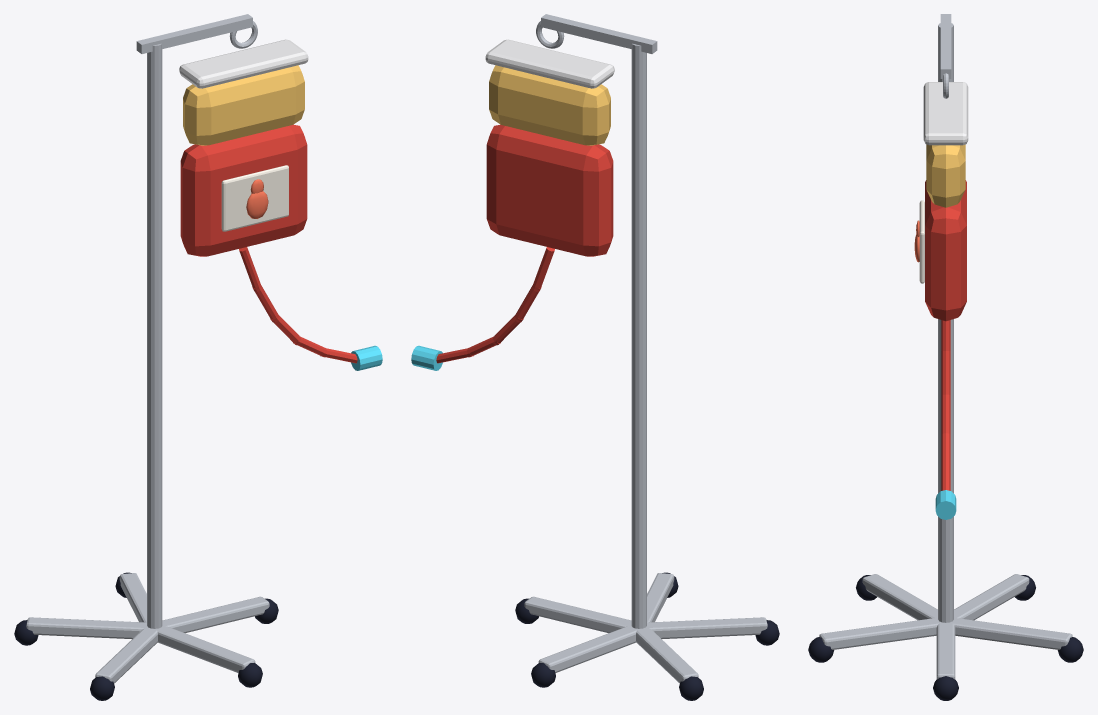
File: blood_bag_stand.glb
The picture shows the model from 3 angles, left to right: view 1: azimuth 30°, elevation 25°; view 2: azimuth 150°, elevation 25°; view 3: azimuth 270°, elevation 25°; orthographic projection.
Visible parts, largest first — view 1: bagRed, pole, bagPlasma, bagSeal, label, spoke2, spoke0, spoke4, hookarm, spoke3, spoke1, cap; view 2: bagRed, pole, bagPlasma, bagSeal, spoke3, spoke0, spoke1, hookarm, spoke2, spoke4, cap; view 3: bagRed, pole, bagSeal, bagPlasma, spoke1, spoke4, spoke3, spoke2, spoke0, hookarm, cap, wheel0 (+4 smaller).
Part boxes in pixels (x1,y1,x2,y2): bagRed: (180,124,307,256); pole: (147,43,162,628); bagPlasma: (183,65,304,145); bagSeal: (179,39,308,88); label: (221,165,288,231); spoke2: (26,617,149,638); spoke0: (162,596,269,633); spoke4: (157,626,255,672); hookarm: (136,14,252,53); spoke3: (95,628,158,683); spoke1: (119,573,146,622); cap: (351,345,382,370); bagRed: (486,124,613,256); pole: (631,43,646,628); bagPlasma: (489,65,610,145); bagSeal: (485,39,614,88); spoke3: (645,617,767,638); spoke0: (524,596,631,633); spoke1: (538,626,636,672); hookarm: (541,14,657,53); spoke2: (635,628,698,683); spoke4: (647,573,674,622); cap: (411,345,442,370); bagRed: (925,180,966,321); pole: (938,23,953,622); bagSeal: (923,82,968,145); bagPlasma: (926,144,965,207); spoke1: (948,617,1072,649); spoke4: (819,618,943,649); spoke3: (862,574,937,620); spoke2: (954,574,1029,620); spoke0: (936,621,955,679); hookarm: (940,14,951,78); cap: (935,490,956,519); wheel0: (933,676,958,700).
Size of the model in its own units: 1.45 by 2.62 by 1.05.
